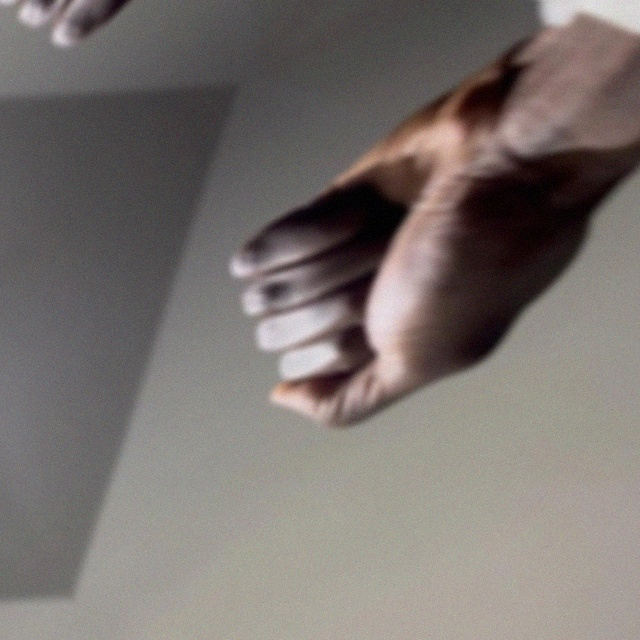Rock: (0, 0, 393, 138)
